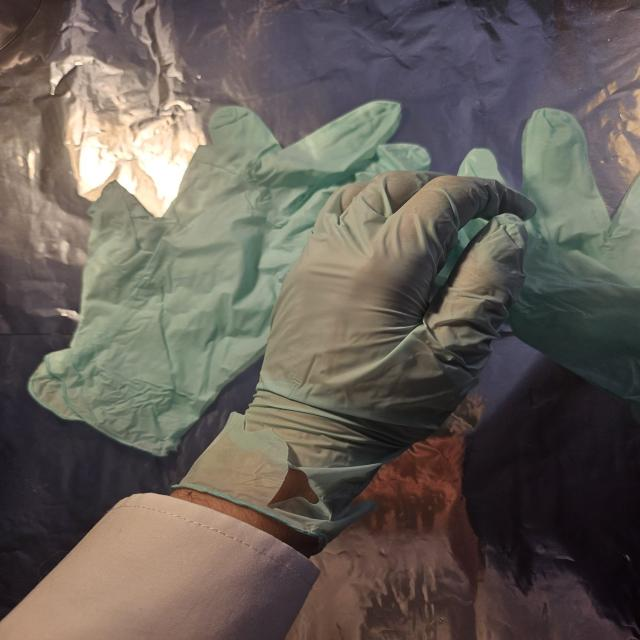gloves_damaged: (167, 167, 536, 543)
